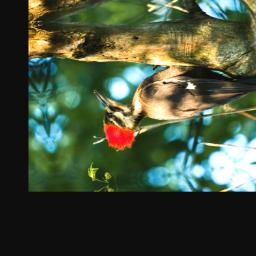Woodpecker: (87, 44, 256, 153)
